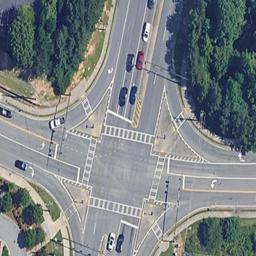Car: (1, 101, 15, 119), (118, 88, 129, 109), (141, 22, 151, 44), (49, 119, 68, 130), (125, 56, 136, 72), (116, 232, 125, 251), (129, 83, 137, 104), (136, 49, 143, 70), (15, 159, 27, 170), (108, 229, 114, 250), (145, 1, 157, 8)
Chevron: (66, 83, 114, 133)
Crosswalk: (89, 195, 141, 217), (104, 125, 155, 145), (80, 138, 97, 183), (147, 159, 165, 200), (152, 221, 164, 239), (170, 115, 187, 125)
Double Solid Yellow Line: (1, 116, 58, 145), (182, 186, 256, 192)
Left Turn Arrow: (33, 140, 48, 149), (210, 177, 217, 188)
Right Turn Arrow: (26, 165, 37, 179), (237, 152, 246, 162), (108, 65, 114, 73)
Solid White Line: (1, 133, 77, 168), (113, 1, 130, 85), (171, 159, 256, 164), (171, 174, 256, 179)
Stop Line: (109, 110, 133, 124), (118, 219, 141, 227), (165, 158, 170, 174), (76, 165, 80, 182), (182, 174, 186, 188), (54, 144, 57, 158)
White Dashed Line: (151, 1, 174, 85), (88, 207, 98, 256)
